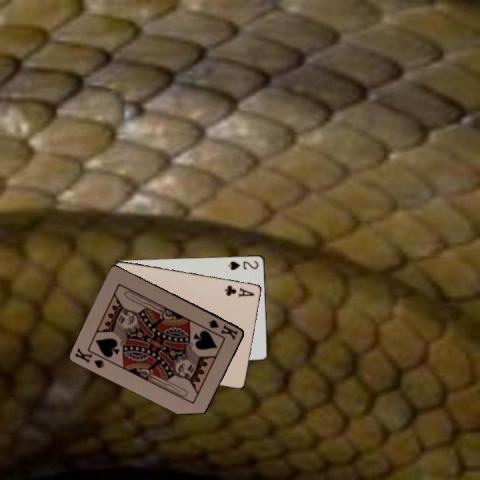2s: (225, 258, 260, 271)
Ac: (222, 282, 256, 298)
Ks: (206, 316, 240, 341), (72, 345, 106, 369)
